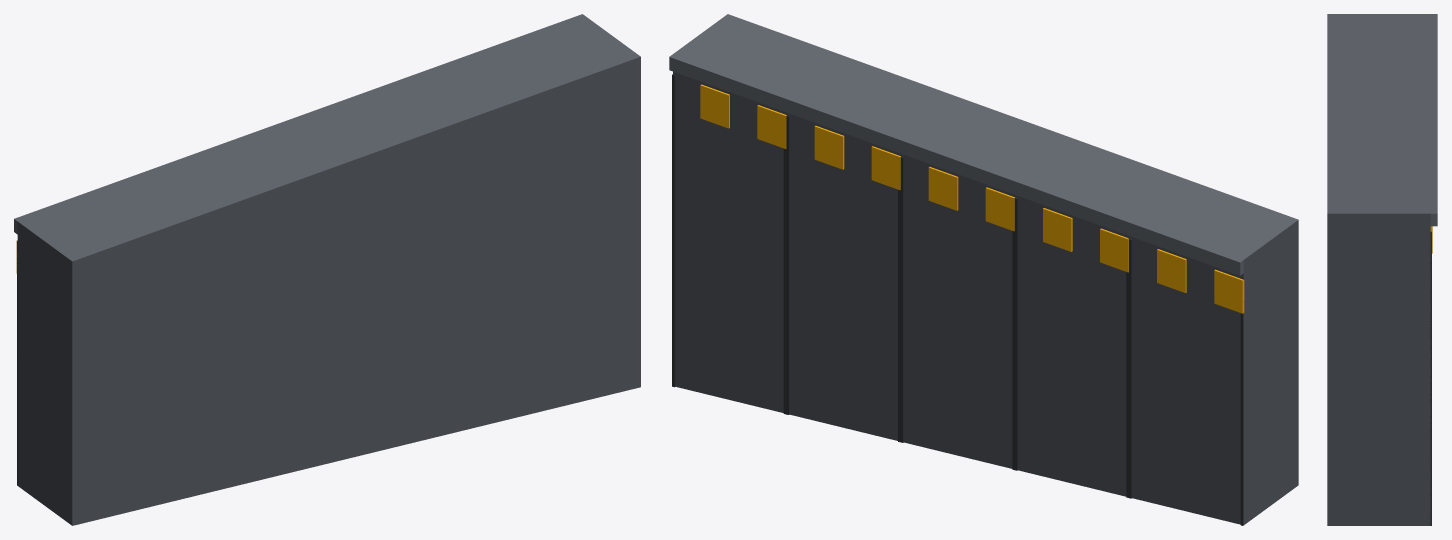
The picture shows the model from 3 angles, left to right: view 1: azimuth 30°, elevation 25°; view 2: azimuth 150°, elevation 25°; view 3: azimuth 270°, elevation 25°; orthographic projection. The views are drawn at different scales.
Parts seen in each view (by area): view 1: b0w; view 2: b0w; view 3: b0w.
Part boxes in pixels (x1,y1,x2,y2): b0w: (14, 14, 640, 525); b0w: (669, 14, 1298, 525); b0w: (1327, 14, 1437, 525).
Bounding box in the file's own units: 9 × 5 × 1.6.
